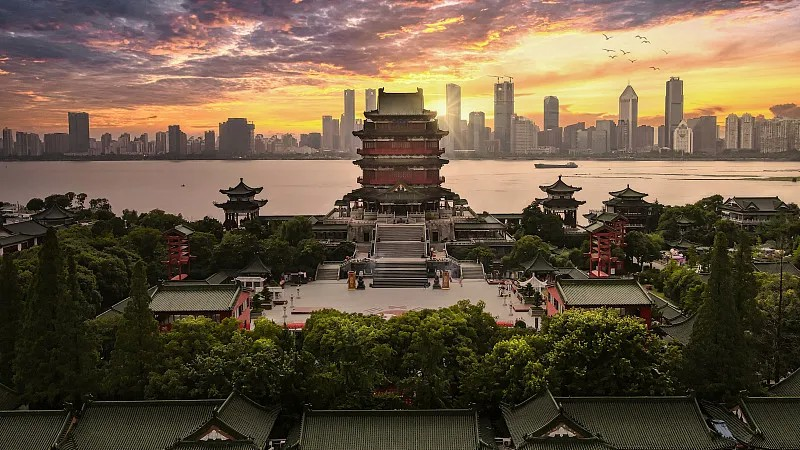Teng: (335, 87, 468, 220)
